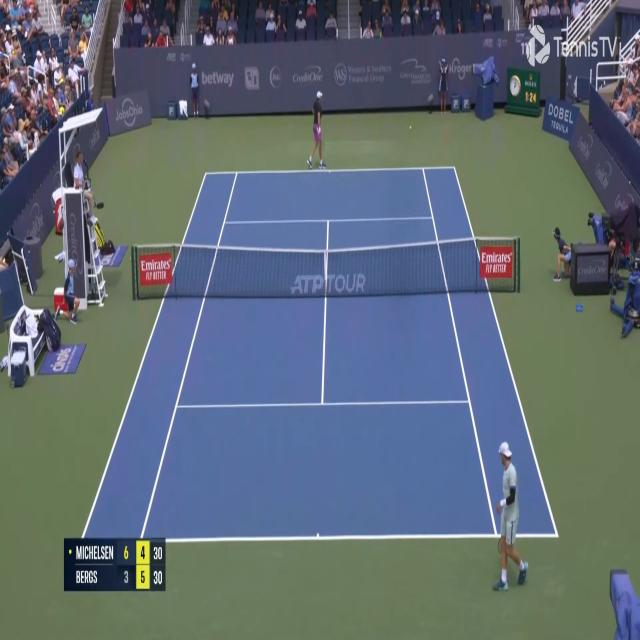tennis-player: (493, 438, 530, 593), (306, 87, 327, 173)
